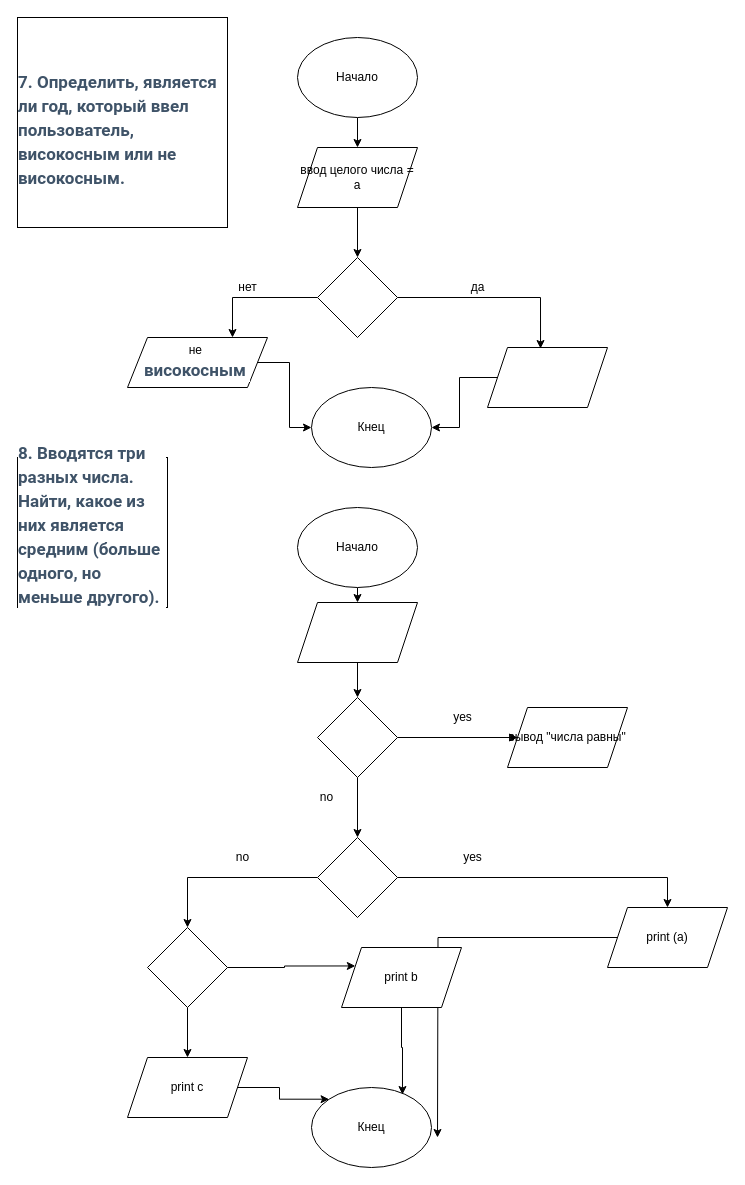
Image size: 745x1185. Some labels were removed from this diagram. Each missing label, with the box of its shape:
a >b and <c: (316, 836, 398, 918)
a, b, c = ввод чисел: (296, 602, 418, 662)
a==b and a==c: (316, 696, 398, 778)
b > а and <c: (146, 926, 228, 1008)
а %5 == 0: (316, 256, 398, 338)
високосным: (486, 346, 608, 408)
